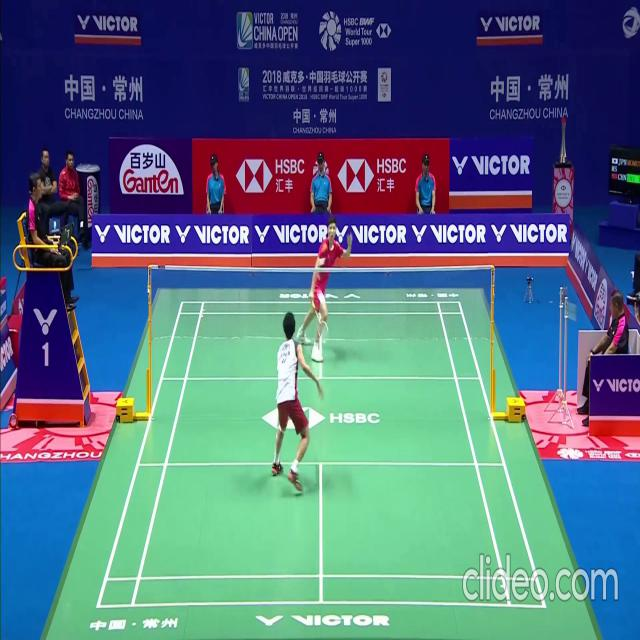Shuttlecock: (321, 256, 326, 264)
